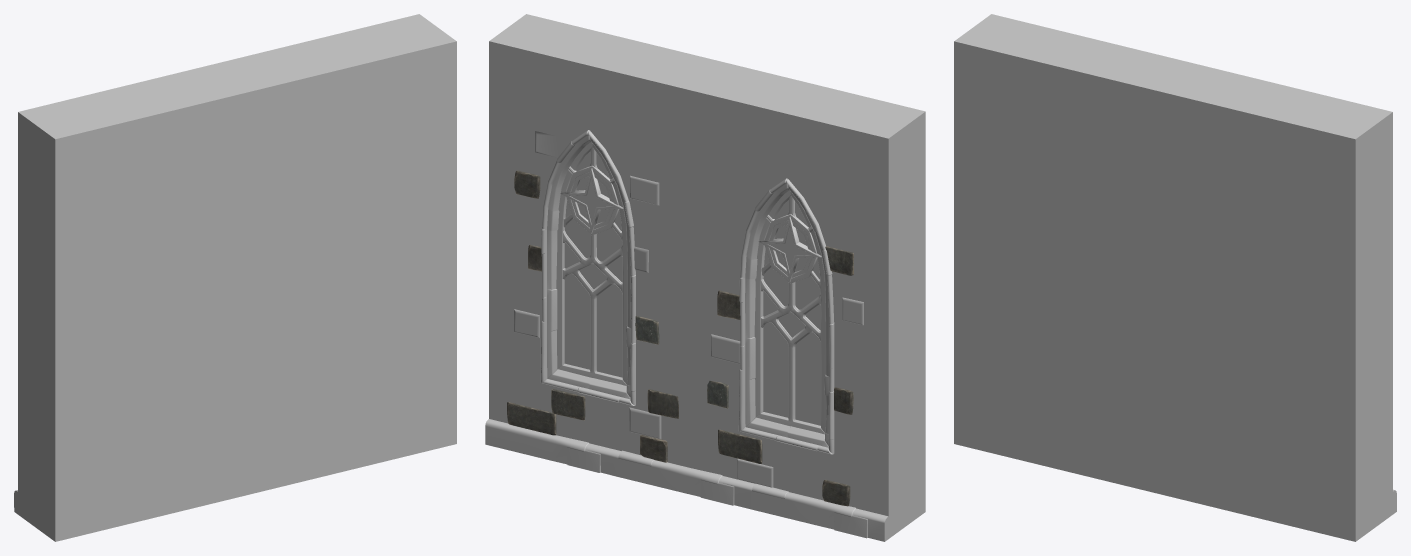
3 views of the same model, side by side, from view 1: azimuth 30°, elevation 25°; view 2: azimuth 150°, elevation 25°; view 3: azimuth 330°, elevation 25° (orthographic).
Visible parts, largest first — view 1: SM_SaradominTemple_Arch_12x12_02_v2_LOD0; view 2: SM_SaradominTemple_Arch_12x12_02_v2_LOD0; view 3: SM_SaradominTemple_Arch_12x12_02_v2_LOD0.
Boxes of the visible parts, box(x1,y1,x2,y2) form: SM_SaradominTemple_Arch_12x12_02_v2_LOD0: box(14, 14, 456, 541); SM_SaradominTemple_Arch_12x12_02_v2_LOD0: box(485, 14, 925, 541); SM_SaradominTemple_Arch_12x12_02_v2_LOD0: box(954, 14, 1396, 541).
Size of the model in its own units: 12 by 11.5 by 2.17.
